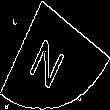N_NE: (33, 23, 77, 87)
